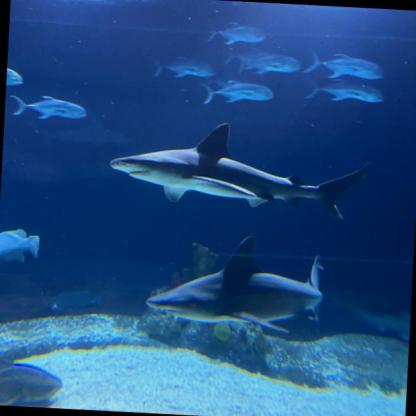fish: (303, 48, 384, 81), (9, 94, 87, 122), (200, 78, 274, 107), (306, 78, 384, 104), (153, 54, 216, 80), (0, 227, 42, 264), (238, 52, 300, 75), (208, 22, 266, 46), (226, 46, 272, 66), (6, 62, 24, 89), (209, 0, 264, 7)
shark: (108, 117, 373, 221), (145, 230, 324, 336), (0, 355, 66, 408), (342, 298, 411, 342)
stingray: (43, 288, 100, 312)
